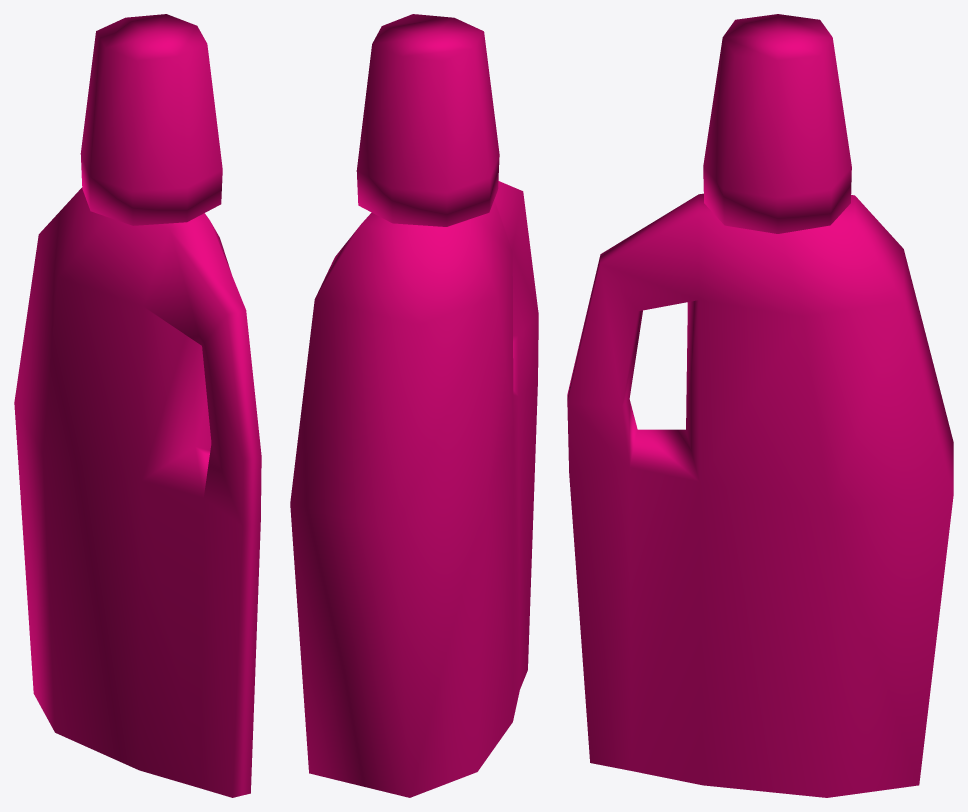
File: Household_04_Lod2.fbx
3 views of the same model, side by side, from view 1: azimuth 30°, elevation 25°; view 2: azimuth 150°, elevation 25°; view 3: azimuth 270°, elevation 25° (orthographic). The views are drawn at different scales.
Parts seen in each view (by area): view 1: Household_04_Lod2; view 2: Household_04_Lod2; view 3: Household_04_Lod2.
Part boxes in pixels (x1=…): Household_04_Lod2: x1=14, y1=14, x2=261, y2=797; Household_04_Lod2: x1=290, y1=14, x2=538, y2=797; Household_04_Lod2: x1=567, y1=14, x2=953, y2=797.
Size of the model in its own units: 9.09 by 36.34 by 17.53.
